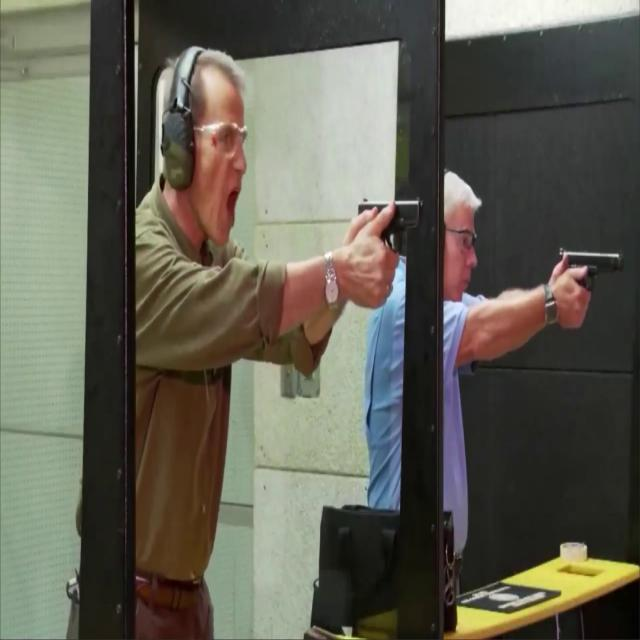Gun: (357, 197, 423, 268), (557, 248, 623, 294)
